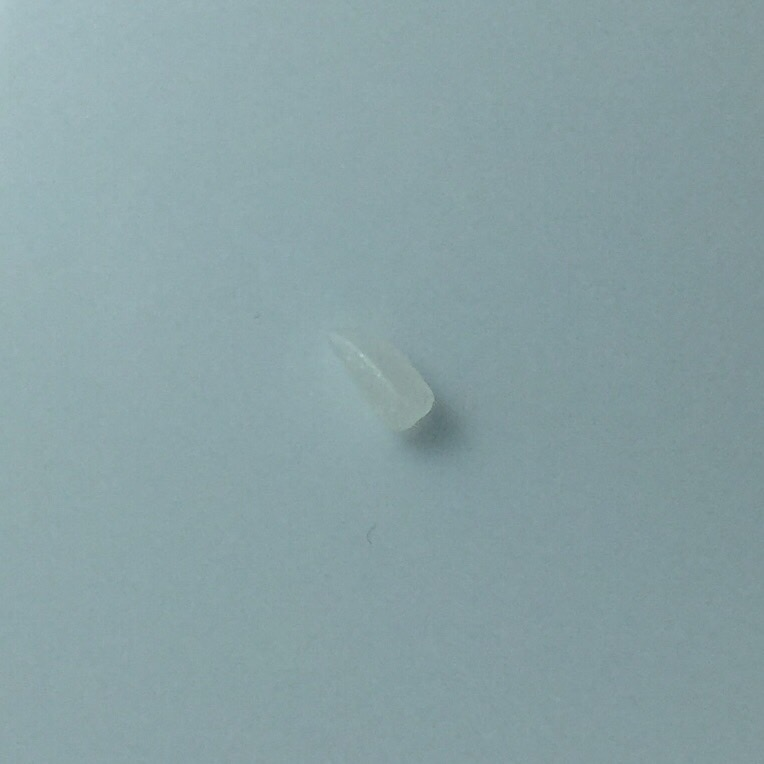Gao Tam: (322, 313, 436, 436)
